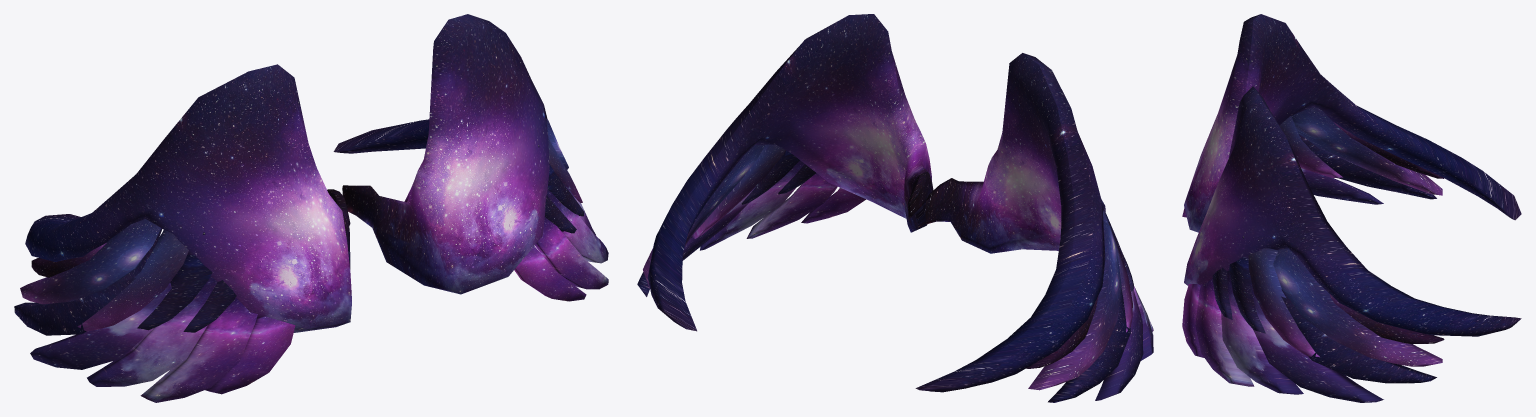
The picture shows the model from 3 angles, left to right: view 1: azimuth 30°, elevation 25°; view 2: azimuth 150°, elevation 25°; view 3: azimuth 270°, elevation 25°; orthographic projection. The views are drawn at different scales.
Visible parts, largest first — view 1: Thumbnailwings1; view 2: Thumbnailwings1; view 3: Thumbnailwings1.
Boxes of the visible parts, <box> form: Thumbnailwings1: <box>14,14,608,402</box>; Thumbnailwings1: <box>637,14,1153,402</box>; Thumbnailwings1: <box>1182,14,1521,402</box>.
Size of the model in its own units: 8.8 by 4.82 by 5.85.
1 material, 1 textured.
